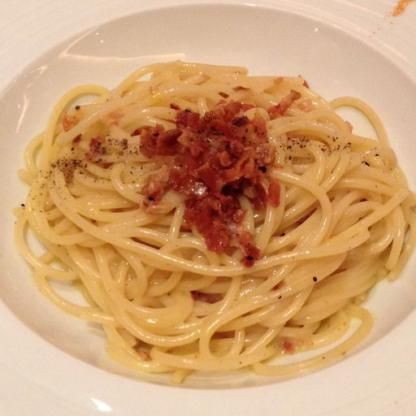Noodles: (10, 59, 415, 385)
